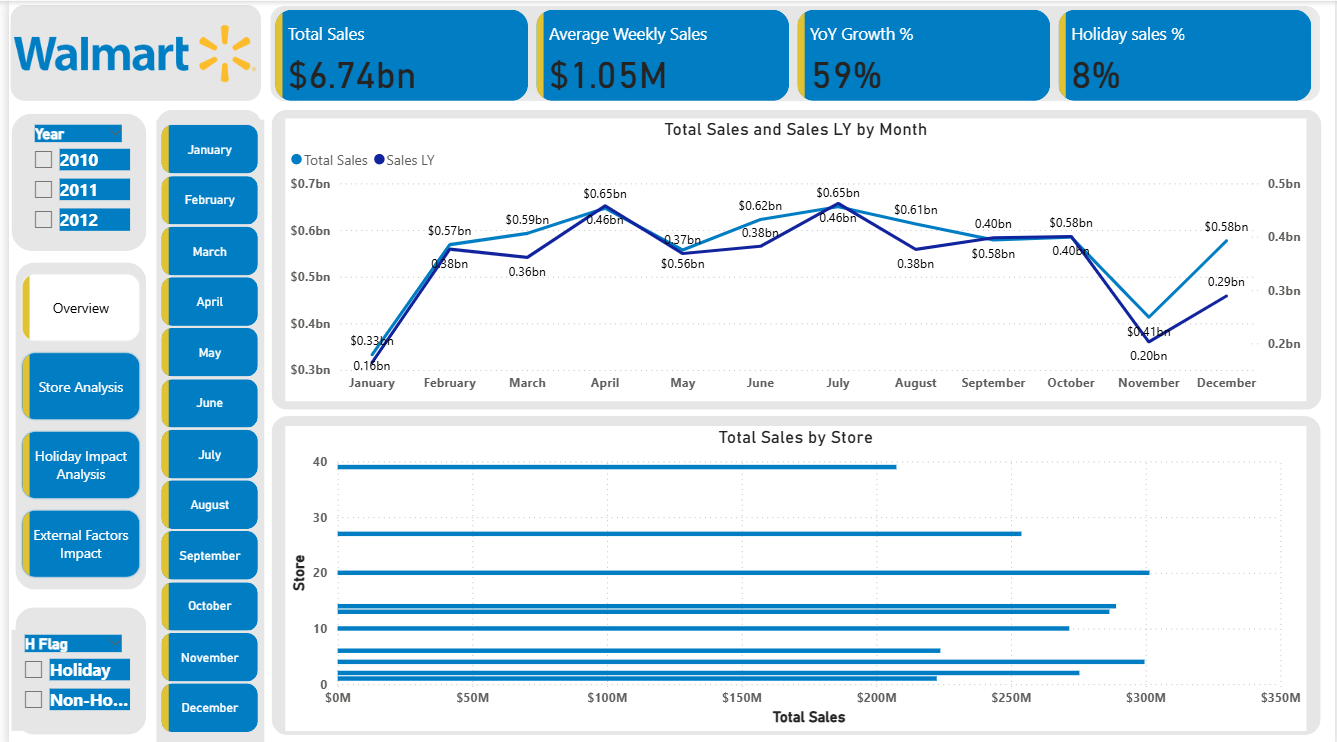

The page's visual inventory and layout, read from the dashboard file:
{"tool":"powerbi","page":{"name":"Overview","canvas":[1280,720],"ordinal":0},"visuals":[{"type":"shape","box":[1.2,3.7,242.1,92.9],"z":0},{"type":"image","box":[0,0,243.3,101.5],"z":1000},{"type":"shape","box":[6,252.1,126.7,316.1],"z":2000},{"type":"shape","box":[6,585.1,126.7,123.1],"z":3000},{"type":"shape","box":[2.4,108.6,130.3,132.7],"z":4000},{"type":"shape","box":[252.1,4.8,1013.4,91.7],"z":5000},{"type":"cardVisual","fields":{"Data":["Walmart Sales.Total Sales","Walmart Sales.Average Weekly Sales","Walmart Sales.YoY Growth %","Walmart Sales.Holiday sales %"]},"box":[252.1,3.6,1013.4,98.9],"z":6000},{"type":"shape","box":[142.4,105,101.3,609.3],"z":7000},{"type":"advancedSlicerVisual","fields":{"Values":["Date Table.Date.Variation.Date Hierarchy.Month"]},"box":[142.4,114.6,103.8,605.6],"z":8000},{"type":"shape","box":[253.4,105,1013.4,289.5],"z":9000},{"type":"shape","box":[252.8,400.8,1012.7,308],"z":10000},{"type":"lineChart","fields":{"Y":["Walmart Sales.Total Sales"],"Category":["Date Table.Date.Variation.Date Hierarchy.Month"],"Y2":["Walmart Sales.Sales LY"]},"box":[266.6,113.4,985.7,272.7],"z":11000},{"type":"barChart","fields":{"Category":["Walmart Sales.Store"],"Y":["Walmart Sales.Total Sales"]},"box":[266.6,410.2,985.7,294.4],"z":12000},{"type":"slicer","fields":{"Values":["Date Table.Date.Variation.Date Hierarchy.Year"]},"box":[12.1,114.6,109.8,121.9],"z":13000},{"type":"slicer","fields":{"Values":["Walmart Sales.Holiday Type"]},"box":[2.4,606.8,119.4,97.7],"z":14000},{"type":"pageNavigator","box":[10.9,261.8,117,296.8],"z":15000}]}

Visuals, with their boxes in screenshot pixels (x1, y1, x2, y2), scaled from the page's 1280x720 canvas onto the 1337x742 screenshot:
shape: box=[1, 4, 254, 100]
image: box=[0, 0, 254, 105]
shape: box=[6, 260, 139, 586]
shape: box=[6, 603, 139, 730]
shape: box=[3, 112, 139, 249]
shape: box=[263, 5, 1322, 99]
cardVisual - Walmart Sales.Total Sales x Walmart Sales.Average Weekly Sales: box=[263, 4, 1322, 106]
shape: box=[149, 108, 255, 736]
advancedSlicerVisual - Date Table.Date.Variation.Date Hierarchy.Month: box=[149, 118, 257, 741]
shape: box=[265, 108, 1323, 407]
shape: box=[264, 413, 1322, 730]
lineChart - Walmart Sales.Total Sales x Date Table.Date.Variation.Date Hierarchy.Month: box=[278, 117, 1308, 398]
barChart - Walmart Sales.Store x Walmart Sales.Total Sales: box=[278, 423, 1308, 726]
slicer - Date Table.Date.Variation.Date Hierarchy.Year: box=[13, 118, 127, 244]
slicer - Walmart Sales.Holiday Type: box=[3, 625, 127, 726]
pageNavigator: box=[11, 270, 134, 576]
